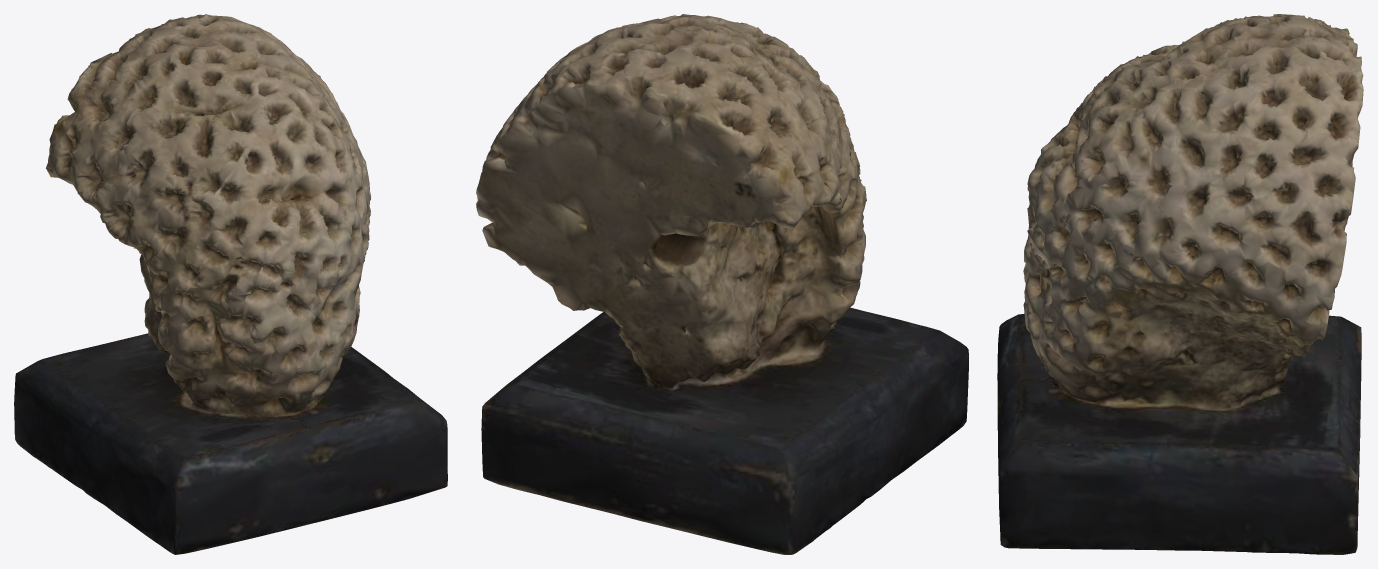
The model's file is coral_favia.glb.
The picture shows the model from 3 angles, left to right: view 1: azimuth 30°, elevation 25°; view 2: azimuth 150°, elevation 25°; view 3: azimuth 270°, elevation 25°; orthographic projection. The views are drawn at different scales.
Size of the model in its own units: 1.53 by 1.98 by 1.46.
1 material, 1 textured.
